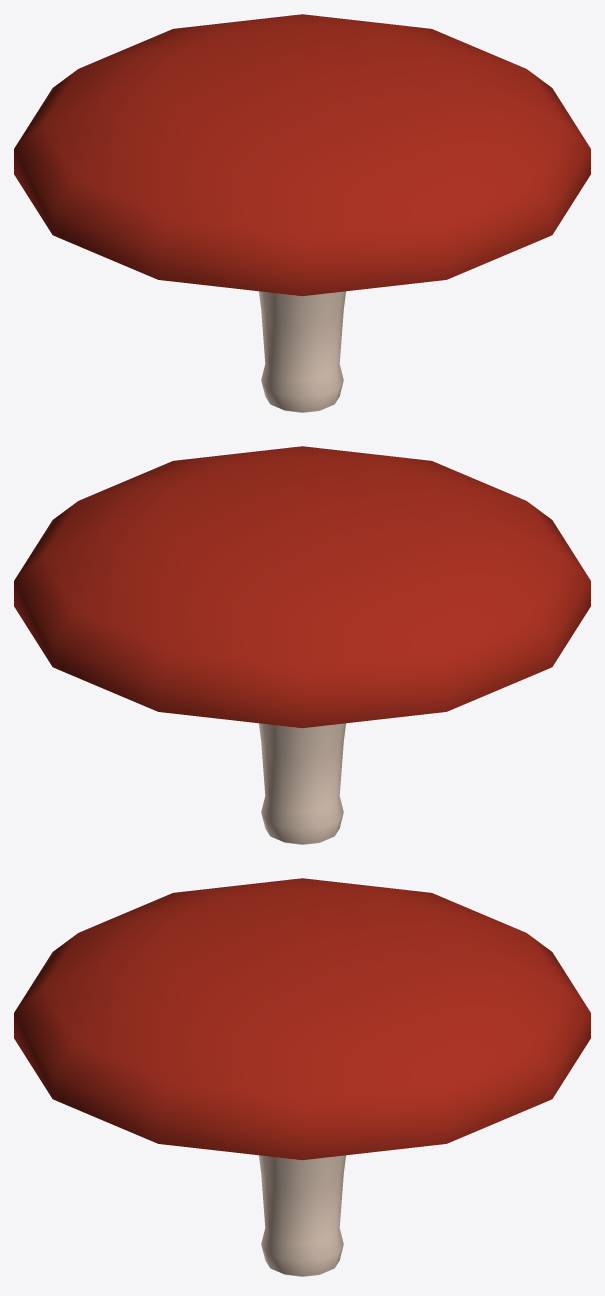
The model's file is Mushroom.FBX.
3 renders of one model, top to bottom at view 1: azimuth 30°, elevation 25°; view 2: azimuth 150°, elevation 25°; view 3: azimuth 270°, elevation 25°, orthographic.
Parts seen in each view (by area): view 1: Cylinder001; view 2: Cylinder001; view 3: Cylinder001.
Boxes of the visible parts, x1,y1,x2,y2 form: Cylinder001: (14,14,590,412); Cylinder001: (14,446,590,844); Cylinder001: (14,878,590,1276).
Bounding box in the file's own units: 23.88 × 23.88 × 15.68.
1 material, 1 textured.
